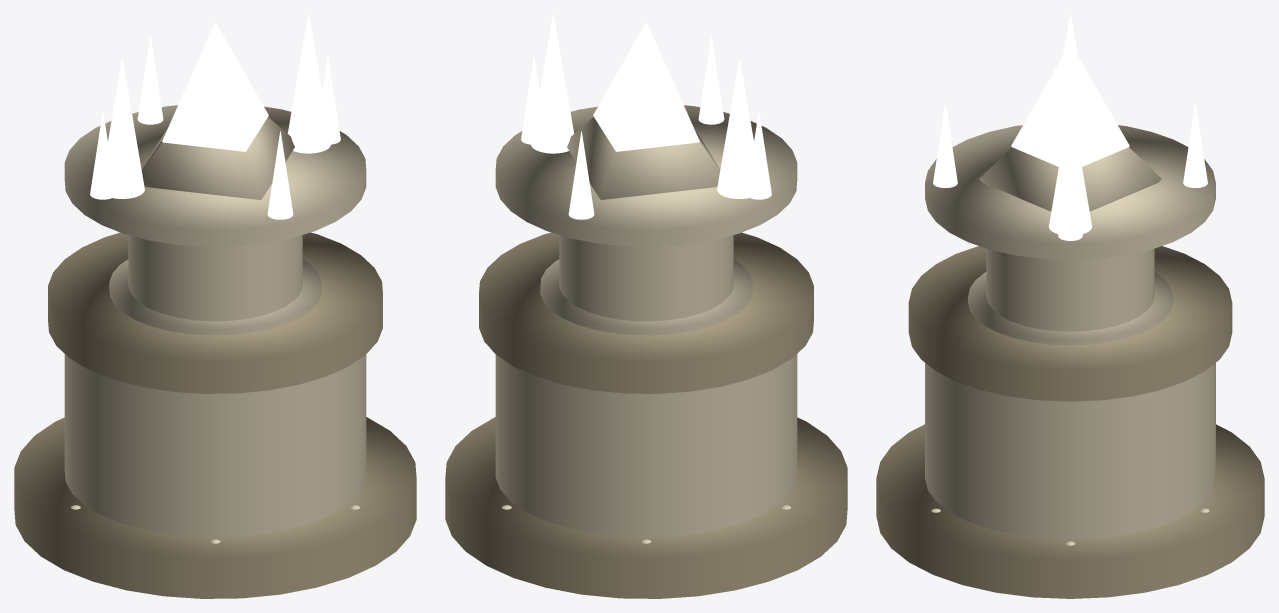
File: ice_l5.glb
3 views of the same model, side by side, from view 1: azimuth 30°, elevation 25°; view 2: azimuth 150°, elevation 25°; view 3: azimuth 270°, elevation 25° (orthographic). The views are drawn at different scales.
Parts seen in each view (by area): view 1: base, footing, baseCollar, spinRing, shaft, spinCrystal, iceCrown, lowerTrim, iceShardR, iceShardL, FrostShard1, FrostShard3 (+2 smaller); view 2: base, footing, baseCollar, spinRing, shaft, spinCrystal, iceCrown, lowerTrim, iceShardR, iceShardL, FrostShard3, FrostShard1 (+2 smaller); view 3: base, footing, baseCollar, spinRing, shaft, spinCrystal, iceCrown, lowerTrim, iceShardR, FrostShard1, FrostShard3, FrostShard0.
Part boxes in pixels (x1,y1,x2,y2): base: (64, 354, 366, 536); footing: (14, 417, 416, 598); baseCollar: (48, 232, 382, 393); spinRing: (64, 105, 366, 246); shaft: (128, 235, 302, 321); spinCrystal: (162, 22, 268, 151); iceCrown: (141, 117, 294, 199); lowerTrim: (109, 259, 321, 335); iceShardR: (287, 14, 330, 153); iceShardL: (108, 59, 144, 198); FrostShard1: (267, 131, 293, 219); FrostShard3: (137, 36, 163, 124); base: (495, 354, 797, 536); footing: (445, 417, 847, 598); baseCollar: (479, 232, 813, 393); spinRing: (495, 105, 797, 246); shaft: (559, 235, 733, 321); spinCrystal: (593, 22, 699, 151); iceCrown: (567, 117, 720, 199); lowerTrim: (540, 259, 752, 335); iceShardR: (531, 14, 574, 153); iceShardL: (717, 59, 753, 198); FrostShard3: (568, 131, 594, 219); FrostShard1: (698, 36, 724, 124); base: (925, 363, 1215, 539); footing: (876, 424, 1264, 598); baseCollar: (908, 246, 1232, 401); spinRing: (925, 125, 1215, 259); shaft: (986, 248, 1154, 331); spinCrystal: (1011, 43, 1129, 166); iceCrown: (979, 147, 1161, 211); lowerTrim: (968, 272, 1172, 345); iceShardR: (1048, 101, 1092, 233); FrostShard1: (933, 103, 957, 187); FrostShard3: (1183, 103, 1207, 187); FrostShard0: (1058, 156, 1082, 240).
Bounding box in the file's own units: 1.8 × 2.42 × 1.8.
